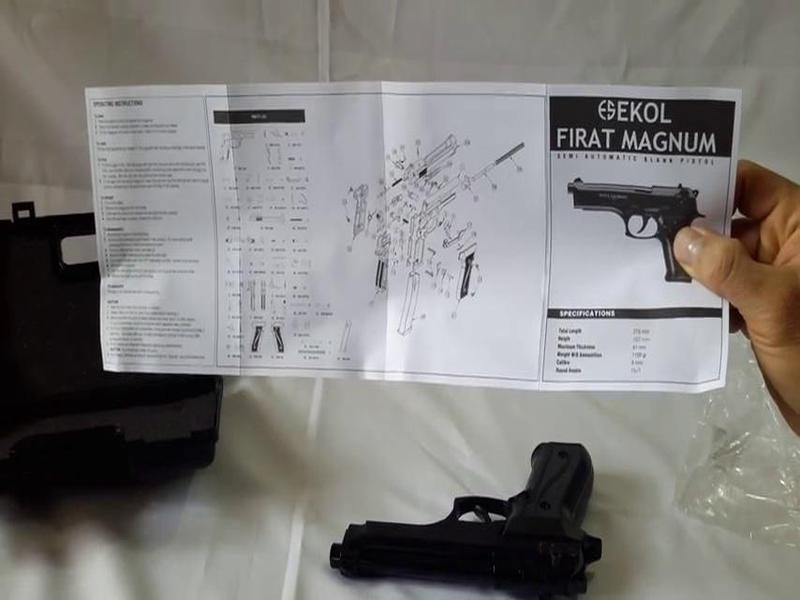Pistola: (308, 414, 691, 600)
